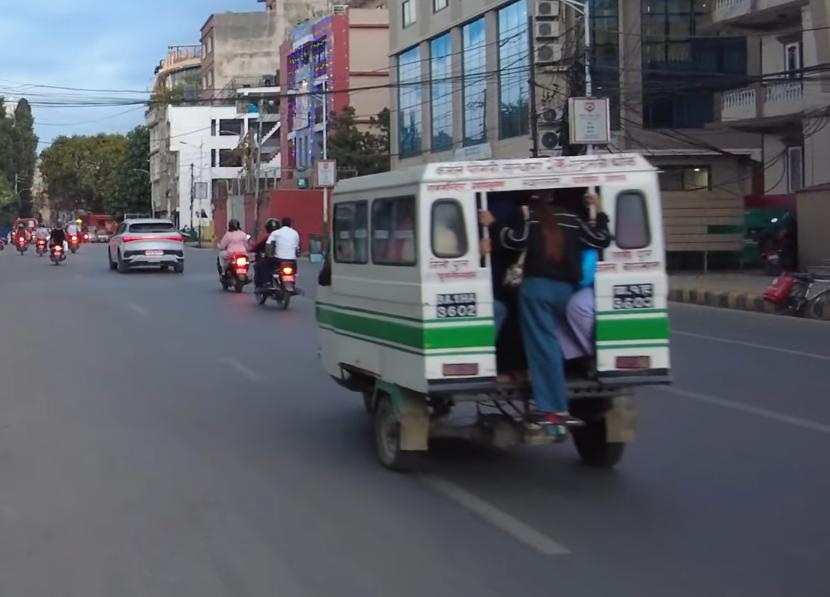bike: (251, 246, 301, 312), (214, 239, 249, 291)
car: (102, 215, 187, 278)
tempo: (307, 141, 681, 470)
